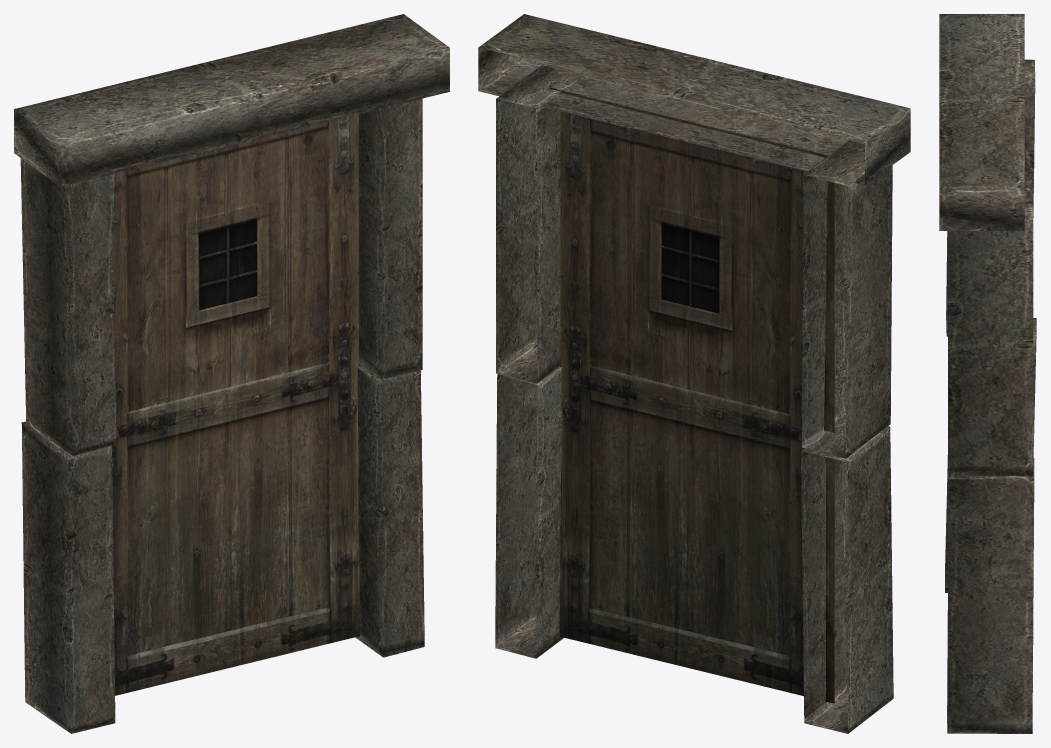
The model's file is Doors2.fbx.
3 renders of one model, left to right at view 1: azimuth 30°, elevation 25°; view 2: azimuth 150°, elevation 25°; view 3: azimuth 270°, elevation 25°, orthographic. The views are drawn at different scales.
Parts seen in each view (by area): view 1: polySurface1590; view 2: polySurface1590; view 3: polySurface1590.
Part boxes in pixels (box(x1,y1,x2,y2)): polySurface1590: box(14, 14, 449, 733); polySurface1590: box(478, 14, 910, 733); polySurface1590: box(939, 14, 1036, 733).
Bounding box in the file's own units: 3.08 × 4.53 × 0.7184.
